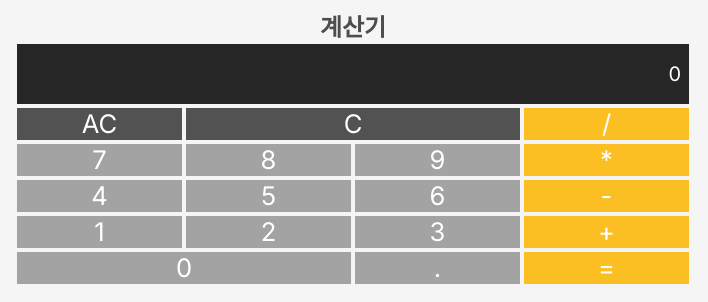
계산기 테스트 › Not a Number
This screenshot has width=708, height=302.
Click the button "2" at (268, 232), box [186,216,351,248]
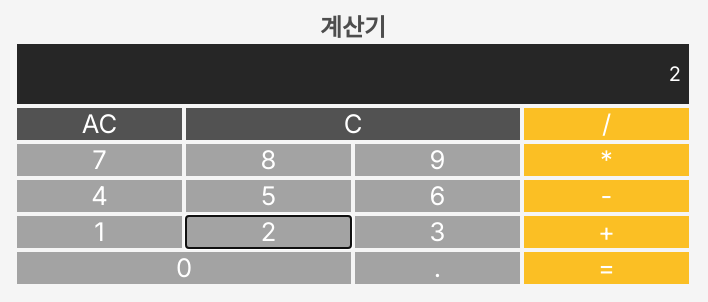
Click the button "/" at (606, 124), box [524,108,689,140]
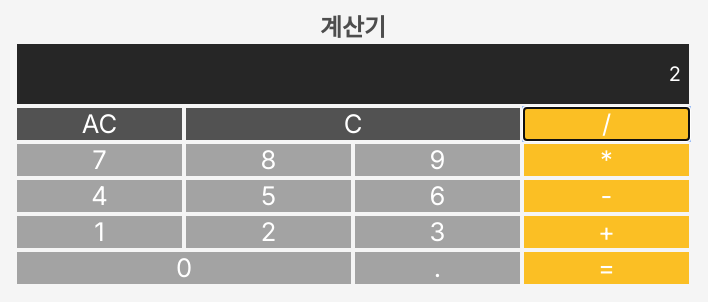
Click the button "0" at (184, 268), box [17,252,351,284]
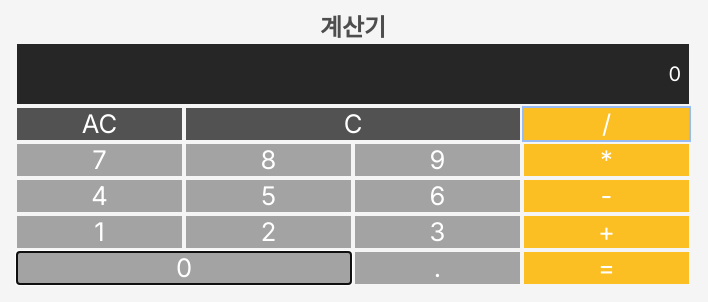
Click the button "=" at (606, 268), box [524,252,689,284]
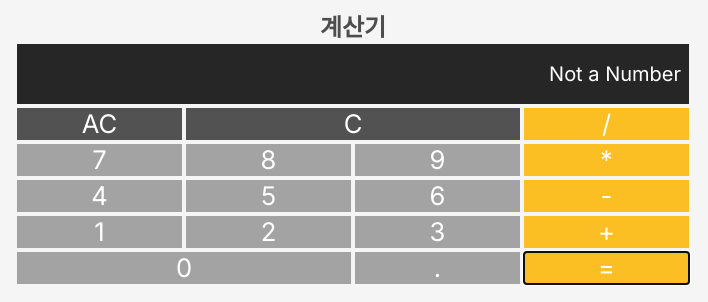
Result: the field with placeholder "0" holds "Not a Number" at [17,44,689,104]
